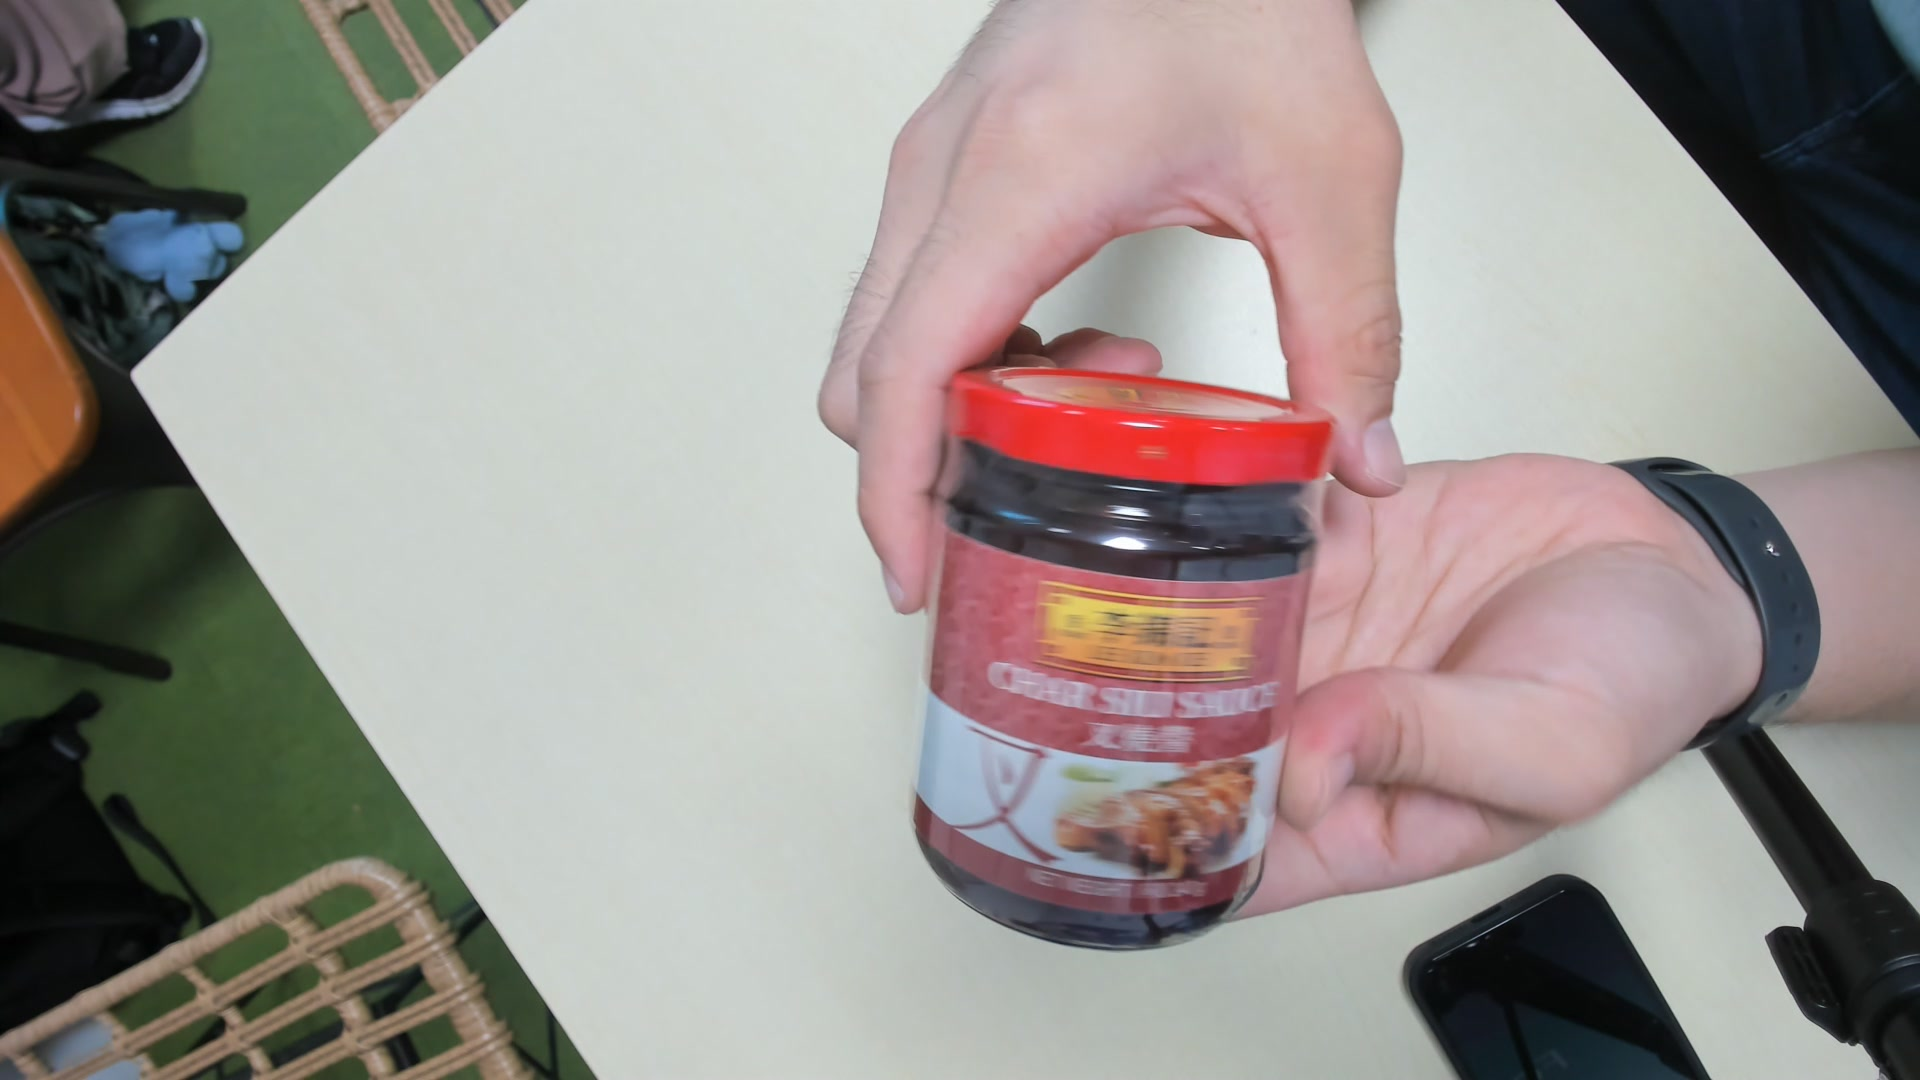OtherSauceDressing_200-299g_NonHalal_NonHealthy: (910, 363, 1338, 949)
